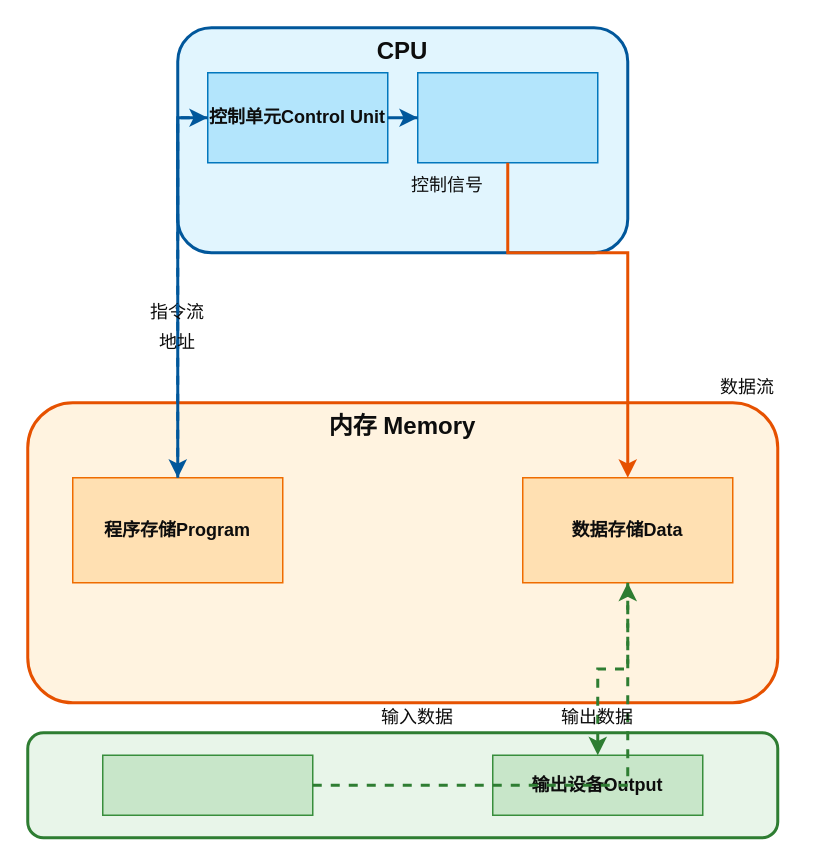
Image size: 818x864. Some labels were removed from this diagram. Here are the shapes that lost their labels. From the top down, the centre of each, then its label:
point (507, 117): ALU算术逻辑单元
point (207, 784): 输入设备Input
